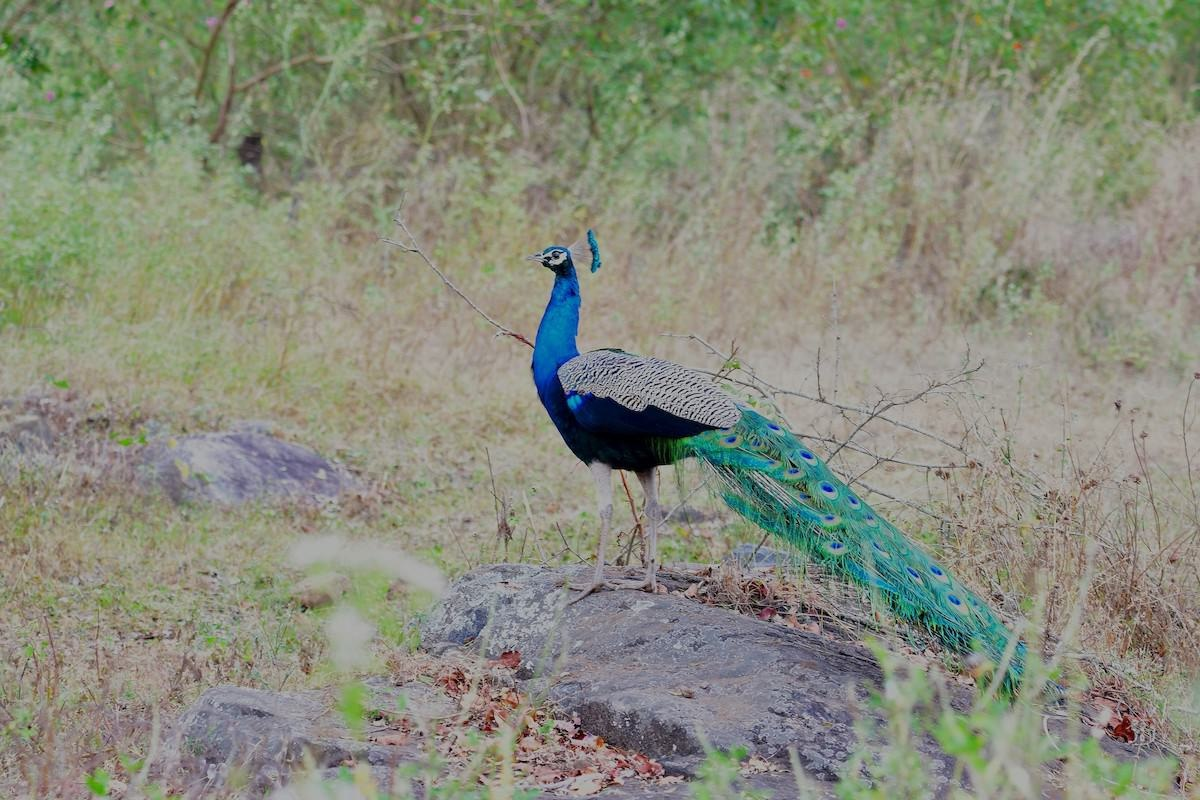peacock: (496, 233, 1036, 695)
